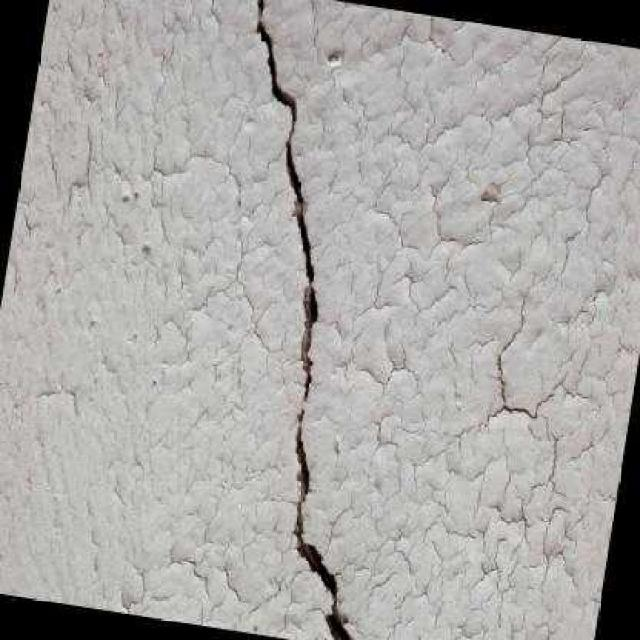D00: (254, 0, 353, 640)
